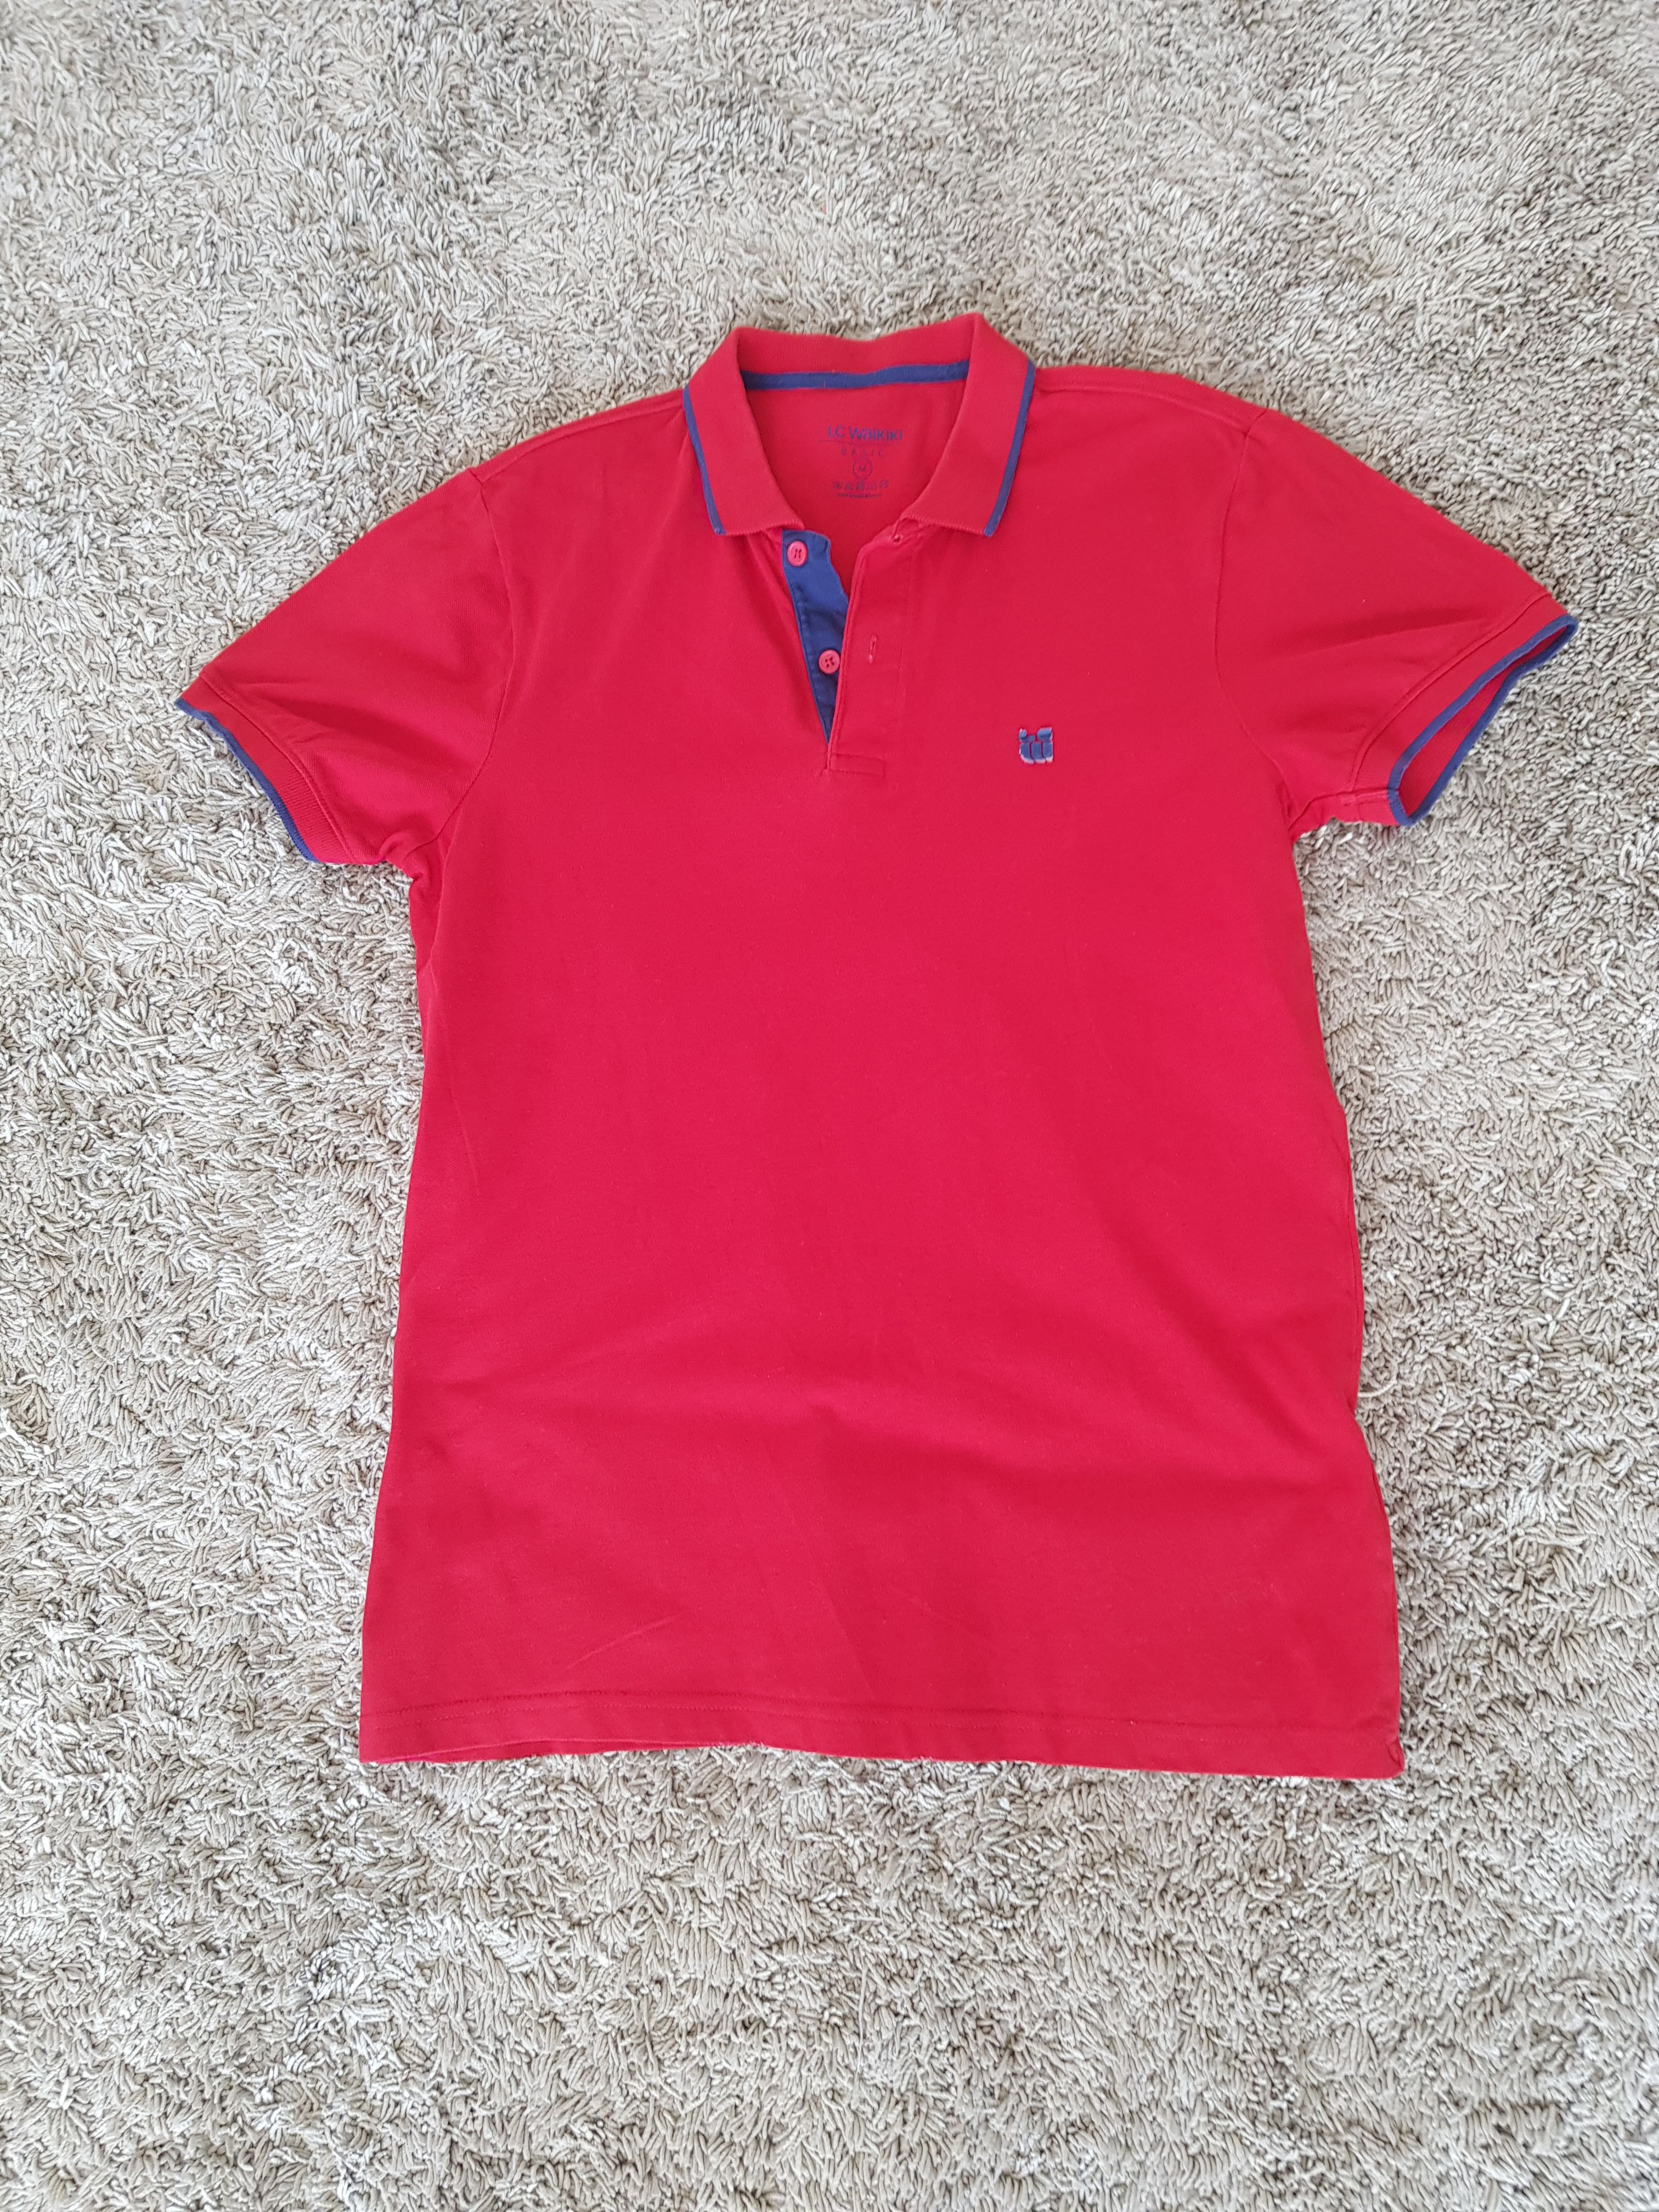clothes: (178, 280, 1568, 1804)
